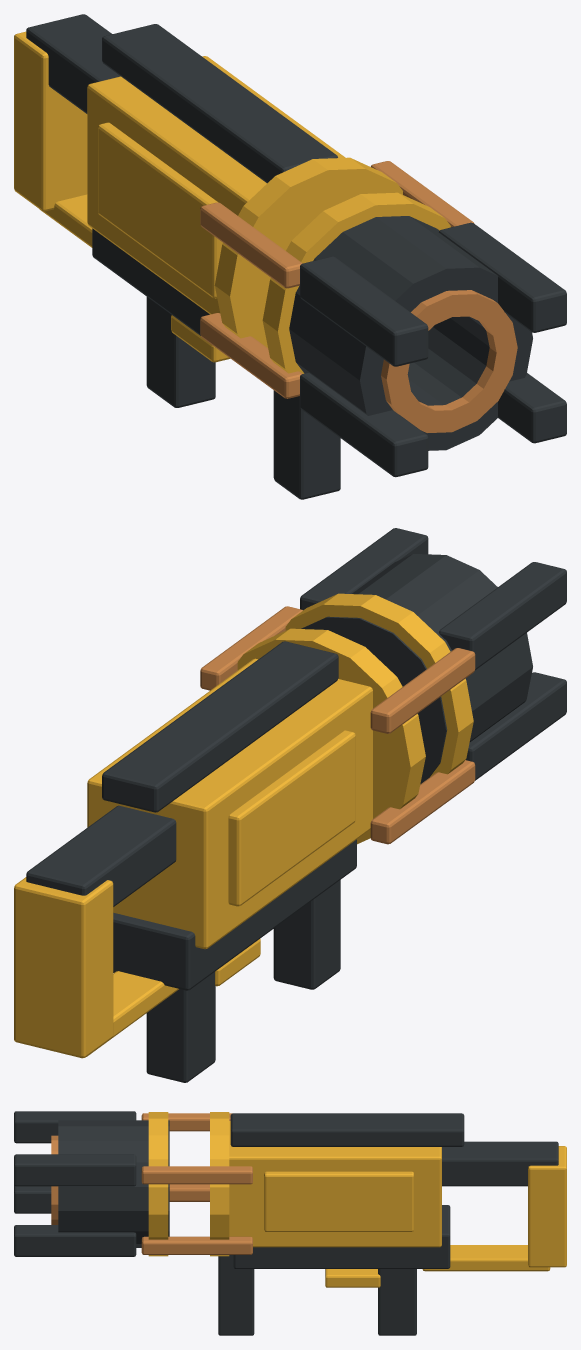
The model's file is cutter-lod1.glb.
3 renders of one model, top to bottom at view 1: azimuth 30°, elevation 25°; view 2: azimuth 150°, elevation 25°; view 3: azimuth 270°, elevation 25°, orthographic. The views are drawn at different scales.
Visible parts, largest first — view 1: cutter graphite.001, cutter industrial yellow.001, cutter copper conductors.001; view 2: cutter graphite.001, cutter industrial yellow.001, cutter copper conductors.001; view 3: cutter graphite.001, cutter industrial yellow.001, cutter copper conductors.001.
Part boxes in pixels (x1,y1,x2,y2): cutter graphite.001: [26, 14, 566, 499]; cutter industrial yellow.001: [14, 31, 450, 373]; cutter copper conductors.001: [200, 161, 517, 432]; cutter graphite.001: [26, 528, 566, 1082]; cutter industrial yellow.001: [14, 593, 473, 1058]; cutter copper conductors.001: [200, 606, 475, 844]; cutter graphite.001: [14, 1111, 558, 1335]; cutter industrial yellow.001: [148, 1112, 566, 1287]; cutter copper conductors.001: [51, 1113, 252, 1254].
Size of the model in its own units: 0.26 by 0.42 by 0.995.
